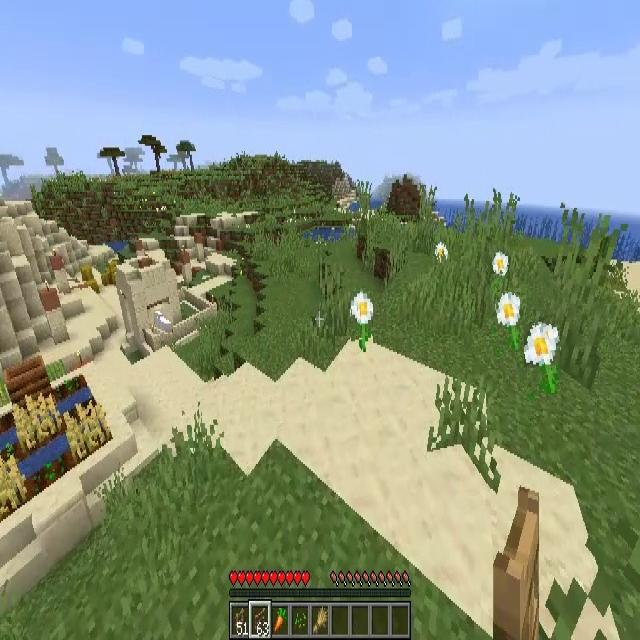flower: (524, 324, 560, 394), (496, 292, 520, 350), (351, 291, 373, 352), (492, 252, 509, 278), (433, 242, 448, 265)
sheep: (154, 310, 173, 334)
